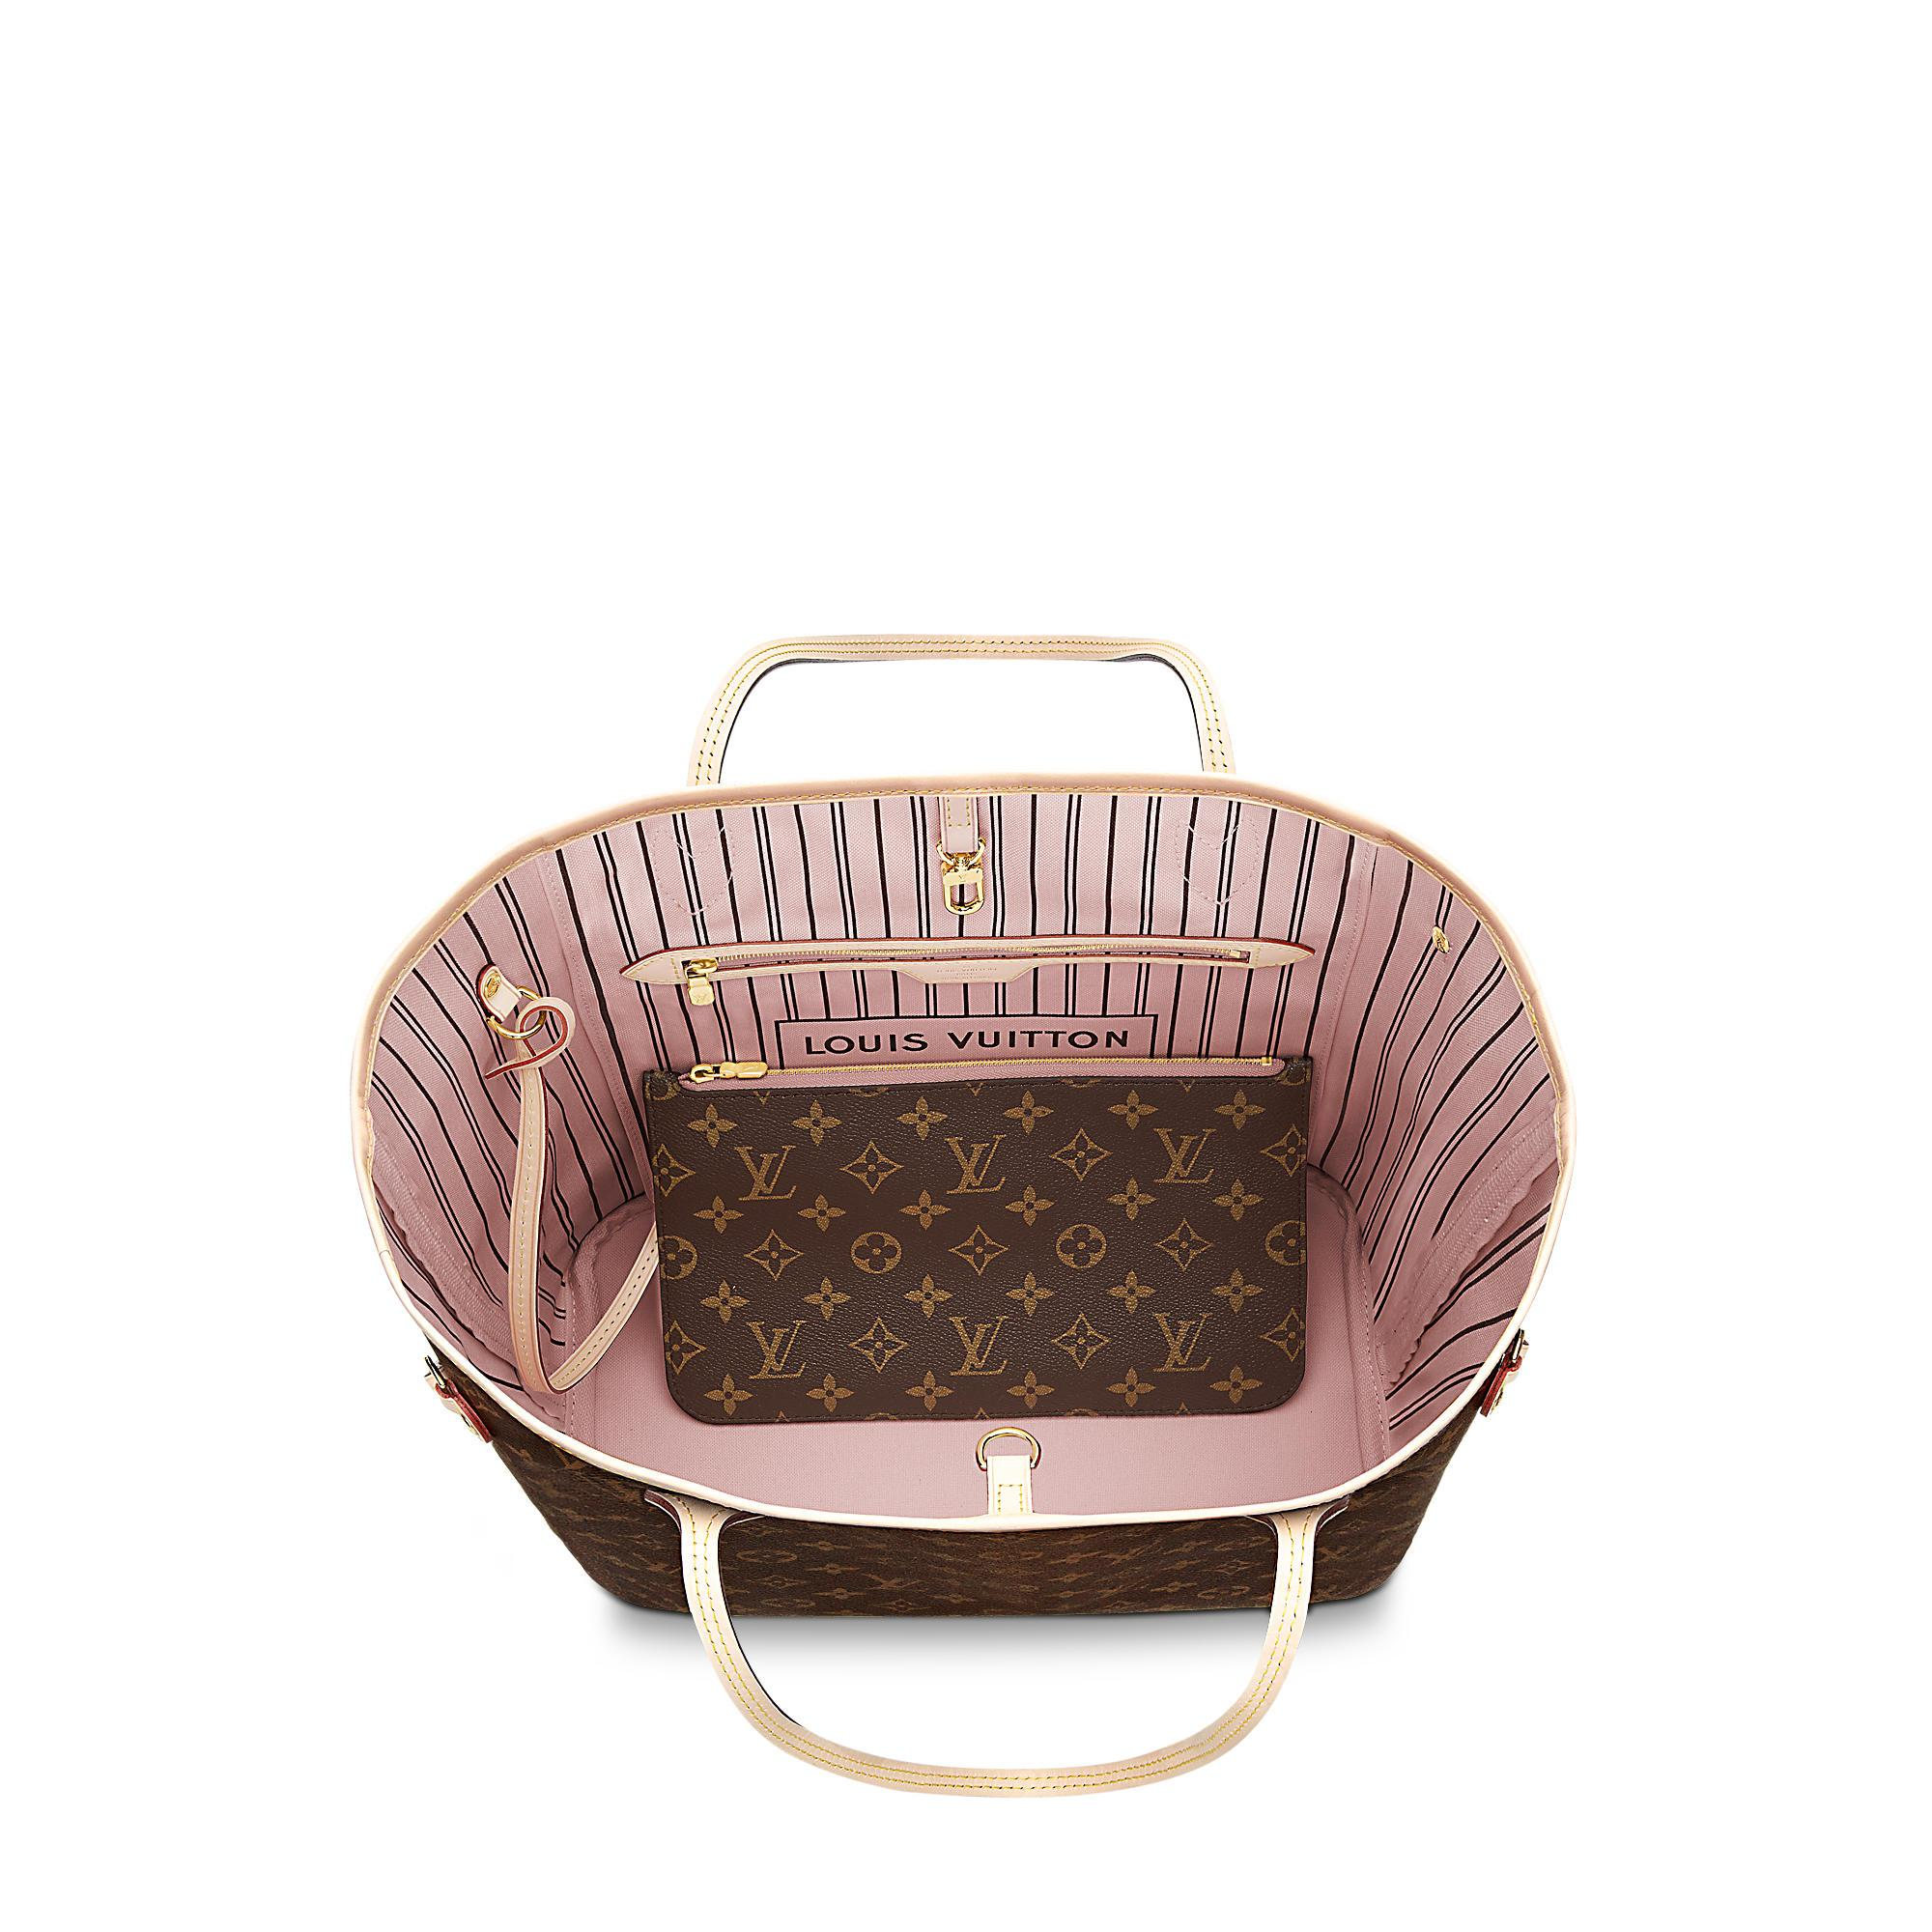LOUIS-VUITTON: (941, 1311, 1014, 1378), (1146, 1307, 1215, 1376), (941, 1131, 1014, 1194), (745, 1318, 810, 1384), (731, 1141, 798, 1203), (1148, 1125, 1215, 1185)
